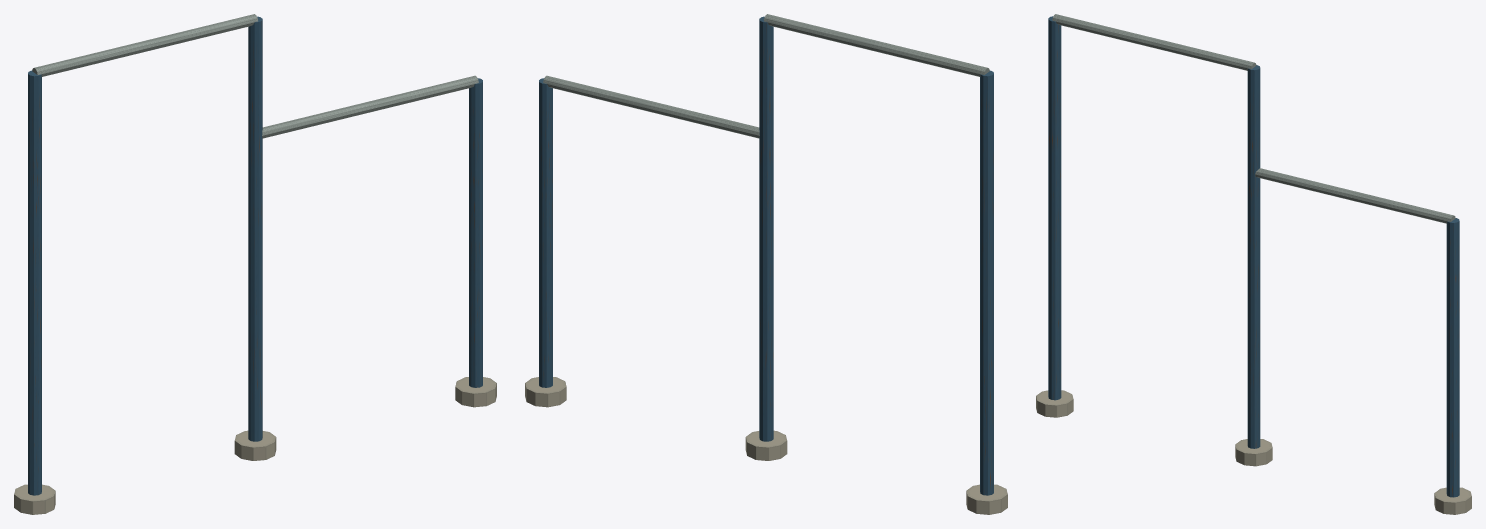
The model's file is CIS_PullUpBars.glb.
3 views of the same model, side by side, from view 1: azimuth 30°, elevation 25°; view 2: azimuth 150°, elevation 25°; view 3: azimuth 330°, elevation 25° (orthographic). The views are drawn at different scales.
Parts seen in each view (by area): view 1: CIS_PullUpBars; view 2: CIS_PullUpBars; view 3: CIS_PullUpBars.
Part boxes in pixels (box(x1,y1,x2,y2)): CIS_PullUpBars: box(14, 14, 496, 514); CIS_PullUpBars: box(525, 14, 1007, 514); CIS_PullUpBars: box(1036, 14, 1471, 514).
Bounding box in the file's own units: 2.59 × 2.27 × 0.2.
3 materials, 3 textured.
